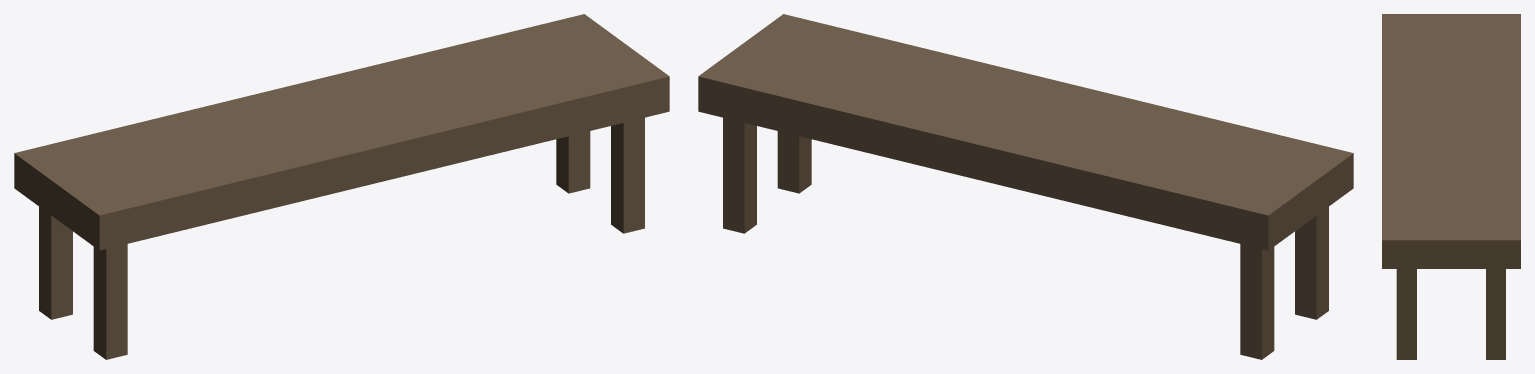
Rendered from SD_Prop_Bench_01.fbx.
The picture shows the model from 3 angles, left to right: view 1: azimuth 30°, elevation 25°; view 2: azimuth 150°, elevation 25°; view 3: azimuth 270°, elevation 25°; orthographic projection. The views are drawn at different scales.
Parts seen in each view (by area): view 1: SD_Prop_Bench_01; view 2: SD_Prop_Bench_01; view 3: SD_Prop_Bench_01.
Boxes of the visible parts, bbox=[...] form: SD_Prop_Bench_01: bbox=[14, 14, 669, 359]; SD_Prop_Bench_01: bbox=[698, 14, 1353, 359]; SD_Prop_Bench_01: bbox=[1382, 14, 1520, 359].
Bounding box in the file's own units: 3.16 × 0.8192 × 0.8182.
